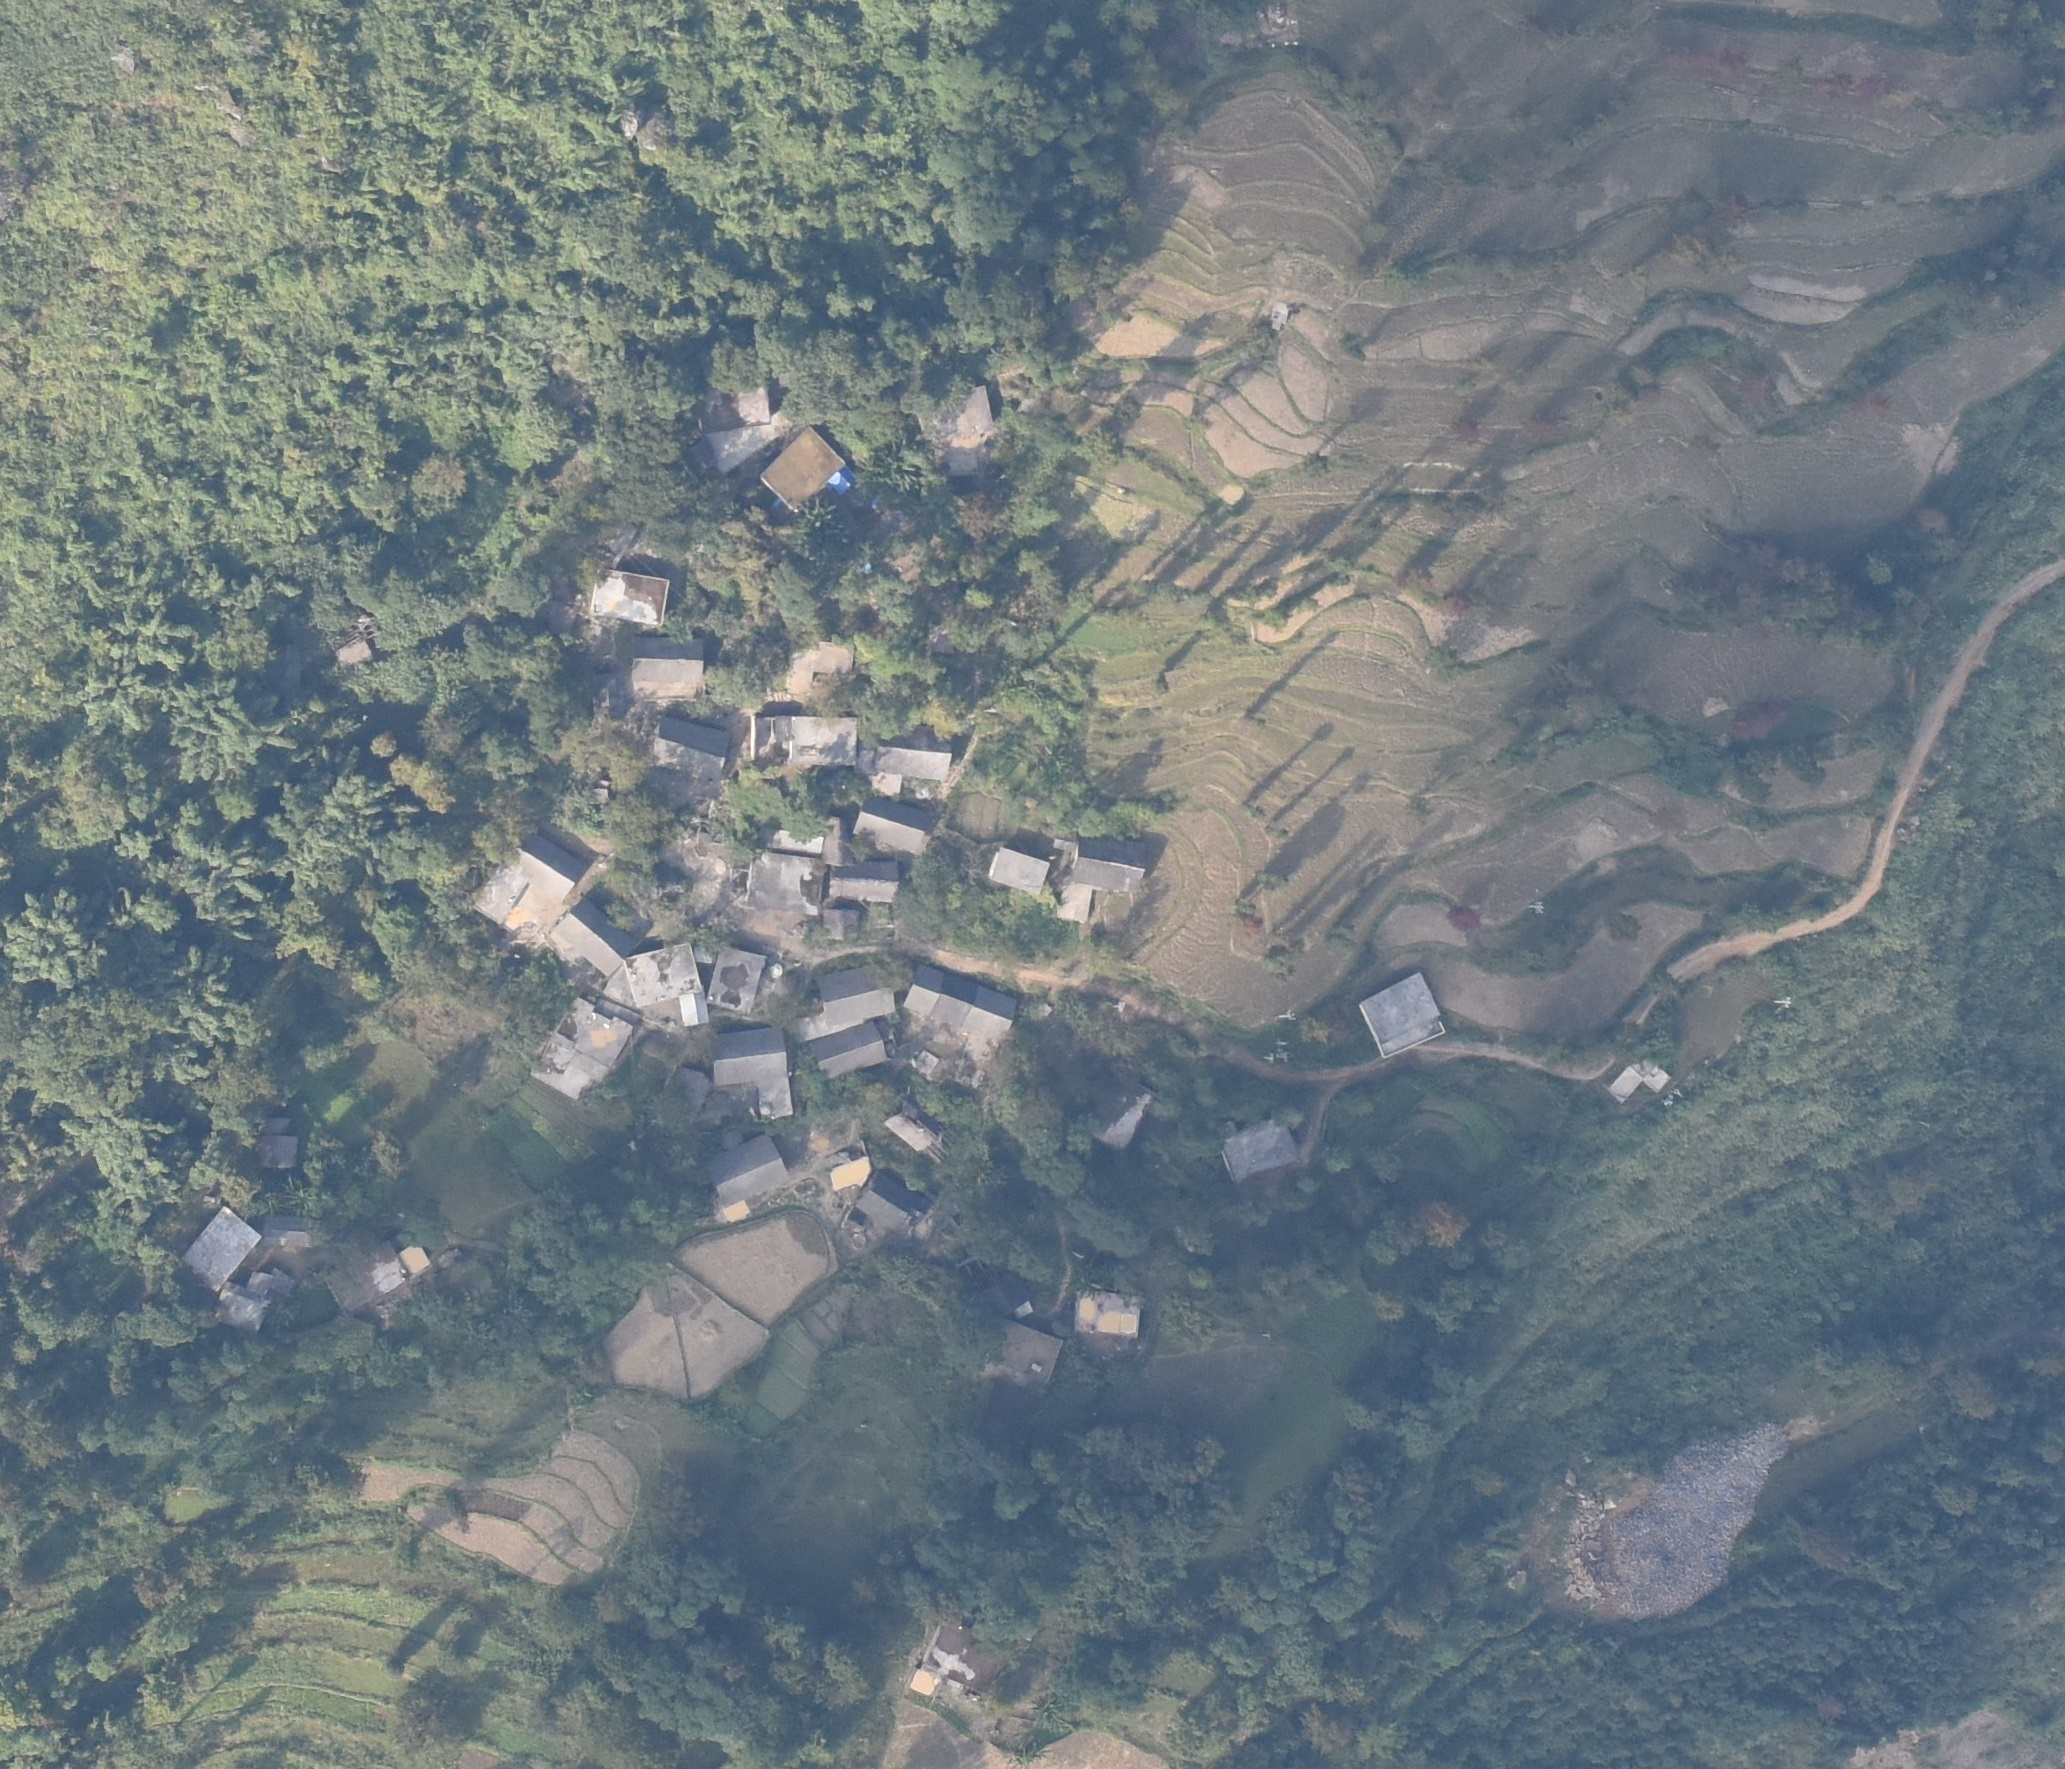building: (529, 999, 632, 1101), (899, 964, 1020, 1039), (698, 374, 784, 472), (471, 847, 573, 928), (1056, 836, 1151, 918), (621, 942, 708, 1030), (833, 1149, 928, 1229), (1359, 974, 1445, 1061), (969, 1312, 1061, 1392), (908, 1625, 1000, 1703), (930, 384, 1000, 481), (797, 966, 892, 1037), (326, 1243, 423, 1312), (761, 431, 842, 511), (746, 830, 824, 911), (181, 1209, 259, 1290), (745, 712, 856, 767), (552, 903, 632, 973), (859, 744, 952, 802), (624, 633, 707, 696), (1079, 1076, 1150, 1149), (645, 716, 727, 778), (1221, 1121, 1305, 1181), (707, 1140, 790, 1200), (590, 566, 668, 627), (779, 636, 855, 696), (853, 799, 935, 854), (219, 1270, 291, 1330), (712, 1026, 788, 1080), (825, 856, 900, 907), (809, 1025, 889, 1072), (706, 948, 764, 1012), (1073, 1287, 1141, 1338), (991, 846, 1050, 898), (888, 1100, 941, 1151), (262, 1209, 325, 1251), (1608, 1063, 1671, 1102), (254, 1118, 301, 1167), (820, 907, 864, 942), (825, 816, 853, 869), (759, 1085, 795, 1118), (334, 638, 372, 666)
prefabricated-house: (830, 464, 857, 494)
quarry: (1544, 1419, 1800, 1621)
